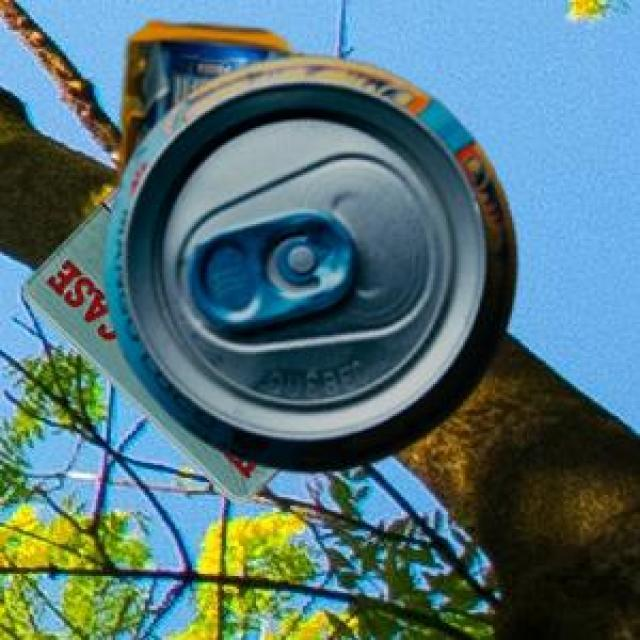Can: (101, 52, 513, 468), (20, 182, 276, 500), (118, 20, 293, 174)
